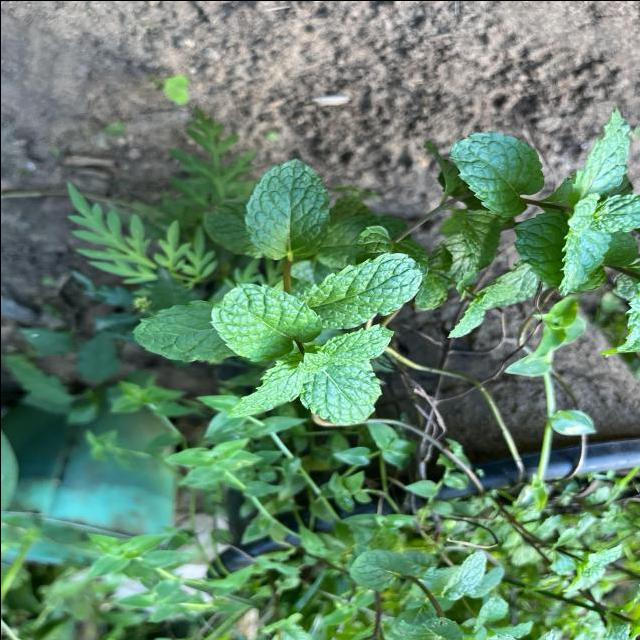Mentha spicata: (304, 249, 422, 330), (208, 280, 324, 362), (242, 157, 330, 260), (445, 130, 546, 219), (300, 362, 382, 427)
